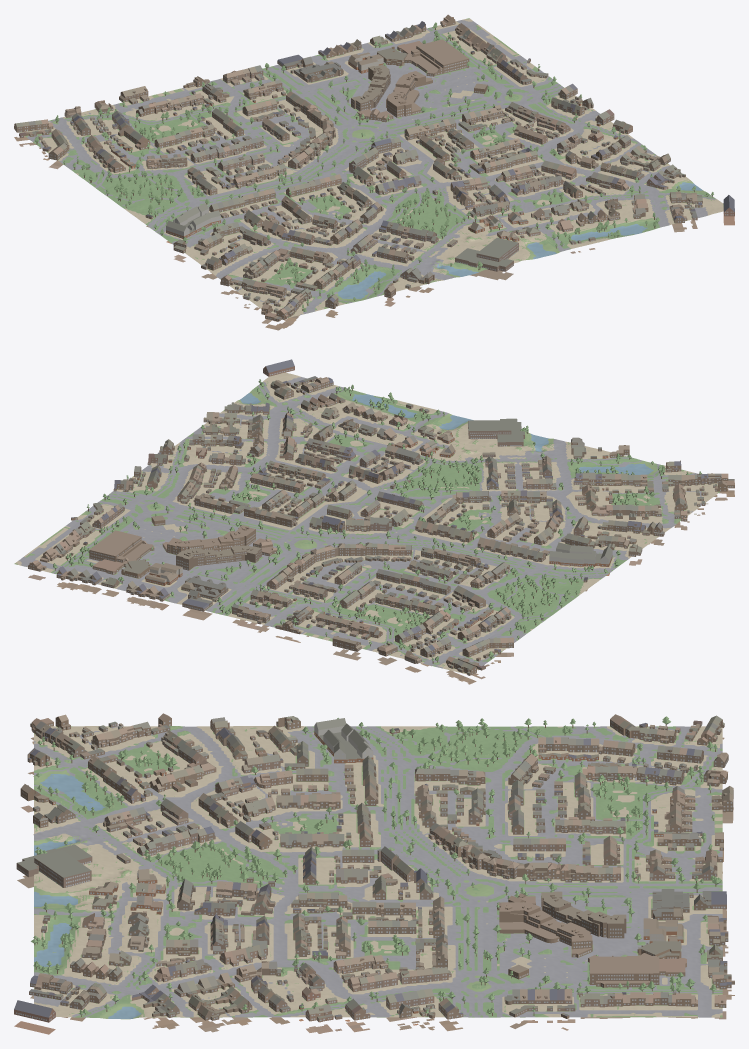
Rendered from bosven-veghel_x333_y807.glb.
3 renders of one model, top to bottom at view 1: azimuth 30°, elevation 25°; view 2: azimuth 150°, elevation 25°; view 3: azimuth 270°, elevation 25°, orthographic. The views are drawn at different scales.
Visible parts, largest first — view 1: class:wall, class:roof, class:road, class:sand, class:green, class:trim, class:tree, class:grass, class:water, class:trunk; view 2: class:roof, class:wall, class:road, class:sand, class:green, class:trim, class:tree, class:grass, class:water, class:trunk; view 3: class:roof, class:road, class:wall, class:sand, class:green, class:tree, class:trim, class:grass, class:water, class:trunk.
Part boxes in pixels (x1=…): class:wall: x1=14, y1=17, x2=734, y2=330; class:roof: x1=16, y1=14, x2=734, y2=319; class:road: x1=27, y1=20, x2=716, y2=314; class:sand: x1=20, y1=19, x2=723, y2=317; class:green: x1=25, y1=25, x2=715, y2=311; class:trim: x1=15, y1=22, x2=733, y2=320; class:tree: x1=34, y1=22, x2=713, y2=311; class:grass: x1=20, y1=18, x2=723, y2=317; class:water: x1=337, y1=182, x2=702, y2=298; class:trunk: x1=36, y1=28, x2=712, y2=310; class:roof: x1=30, y1=359, x2=734, y2=673; class:wall: x1=28, y1=366, x2=734, y2=684; class:road: x1=18, y1=377, x2=701, y2=668; class:sand: x1=15, y1=372, x2=718, y2=674; class:green: x1=26, y1=384, x2=691, y2=666; class:trim: x1=28, y1=368, x2=733, y2=674; class:tree: x1=53, y1=379, x2=701, y2=661; class:grass: x1=14, y1=376, x2=720, y2=672; class:water: x1=240, y1=393, x2=653, y2=474; class:trunk: x1=55, y1=383, x2=663, y2=663; class:roof: x1=14, y1=713, x2=734, y2=1018; class:road: x1=34, y1=726, x2=722, y2=1017; class:wall: x1=14, y1=716, x2=734, y2=1034; class:sand: x1=34, y1=726, x2=722, y2=1017; class:green: x1=34, y1=726, x2=722, y2=1017; class:tree: x1=31, y1=716, x2=721, y2=1014; class:trim: x1=16, y1=719, x2=732, y2=1020; class:grass: x1=34, y1=726, x2=722, y2=1019; class:water: x1=34, y1=774, x2=141, y2=1018; class:trunk: x1=34, y1=724, x2=716, y2=1016.
Size of the model in its own units: 517 by 22.35 by 523.
